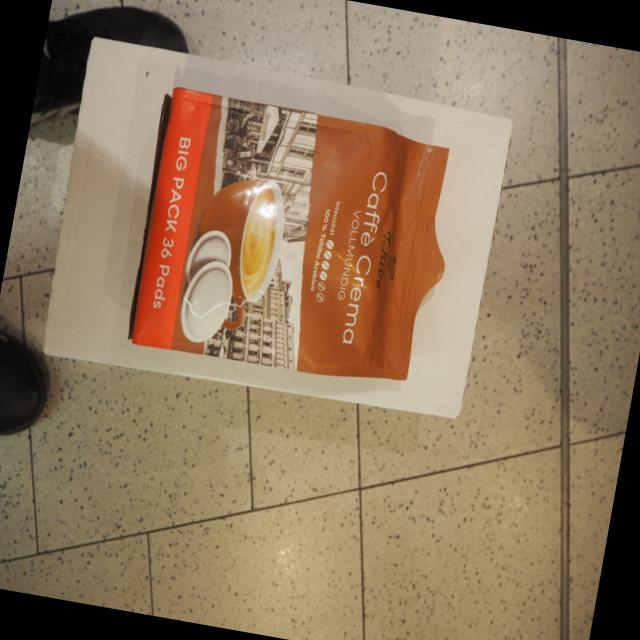CC Vollmundig: (116, 76, 475, 401)
